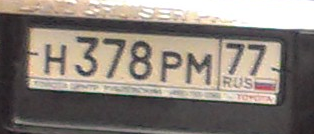character: (127, 36, 154, 83), (100, 35, 126, 82), (184, 50, 214, 89), (72, 35, 99, 78), (42, 39, 68, 77), (159, 47, 183, 85), (247, 39, 269, 79), (224, 40, 246, 78)
